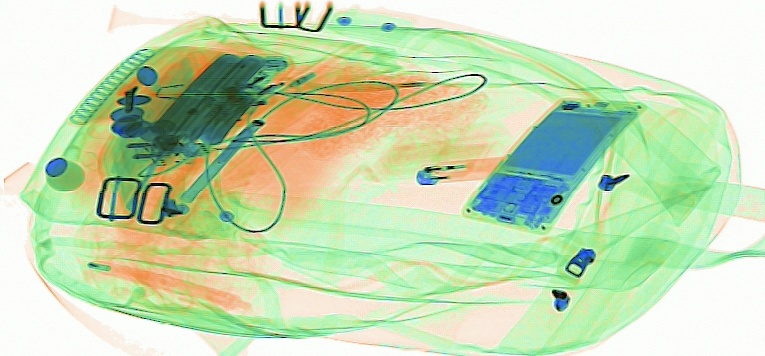lighter: (414, 152, 532, 186)
powerbank: (139, 47, 292, 160)
